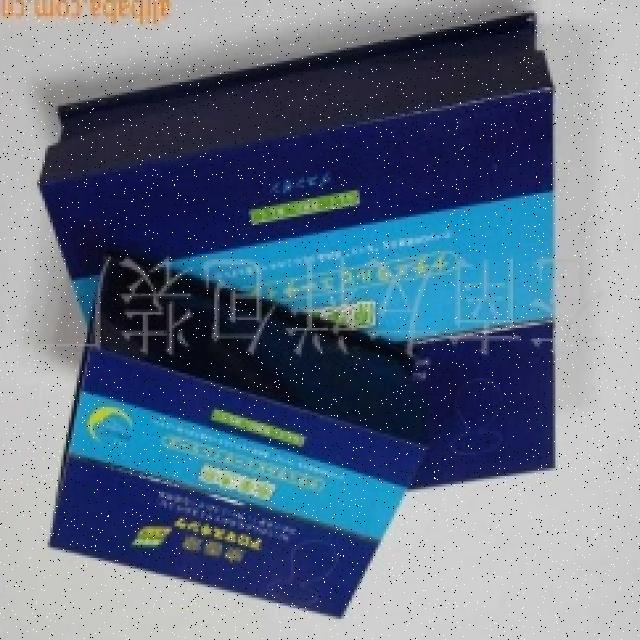box: (33, 46, 572, 494), (39, 258, 435, 616)
